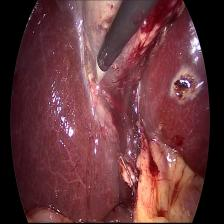Hook: (92, 57, 107, 90)
